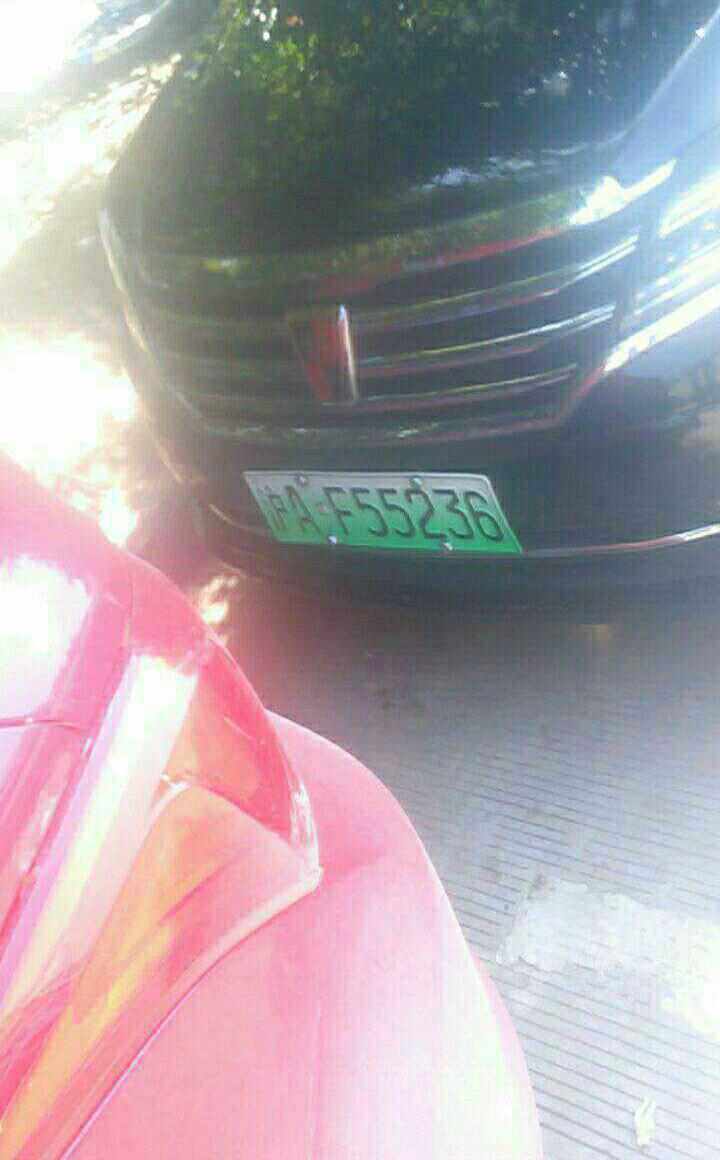car_green: (235, 465, 528, 565)
